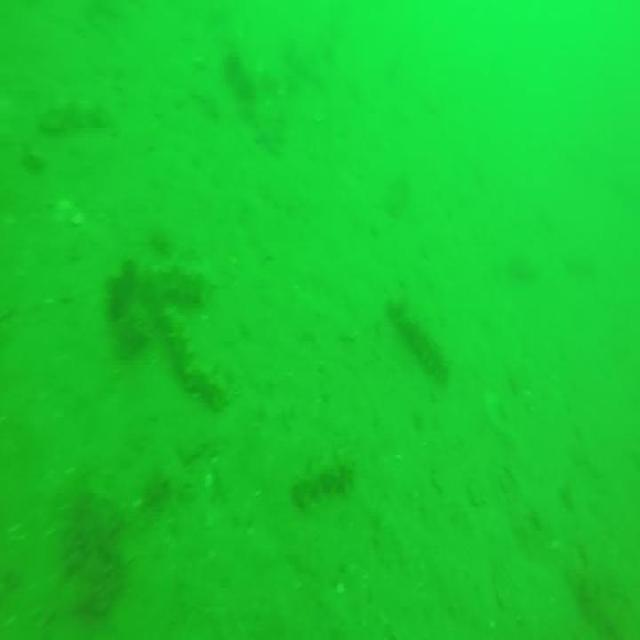holothurian: (160, 314, 225, 408), (386, 290, 452, 378), (111, 253, 215, 302), (286, 450, 353, 508)
